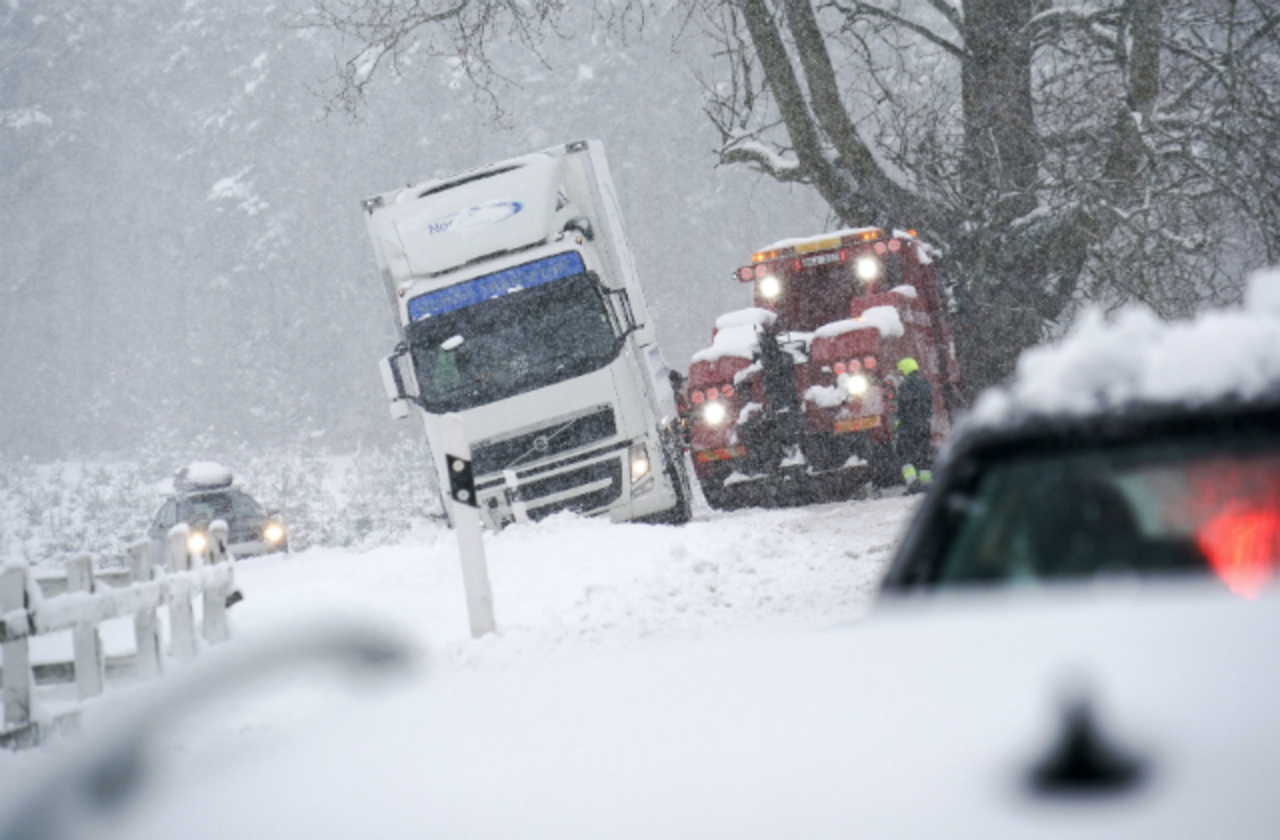car: (146, 484, 288, 567)
truck: (373, 145, 689, 546), (675, 225, 954, 514)
